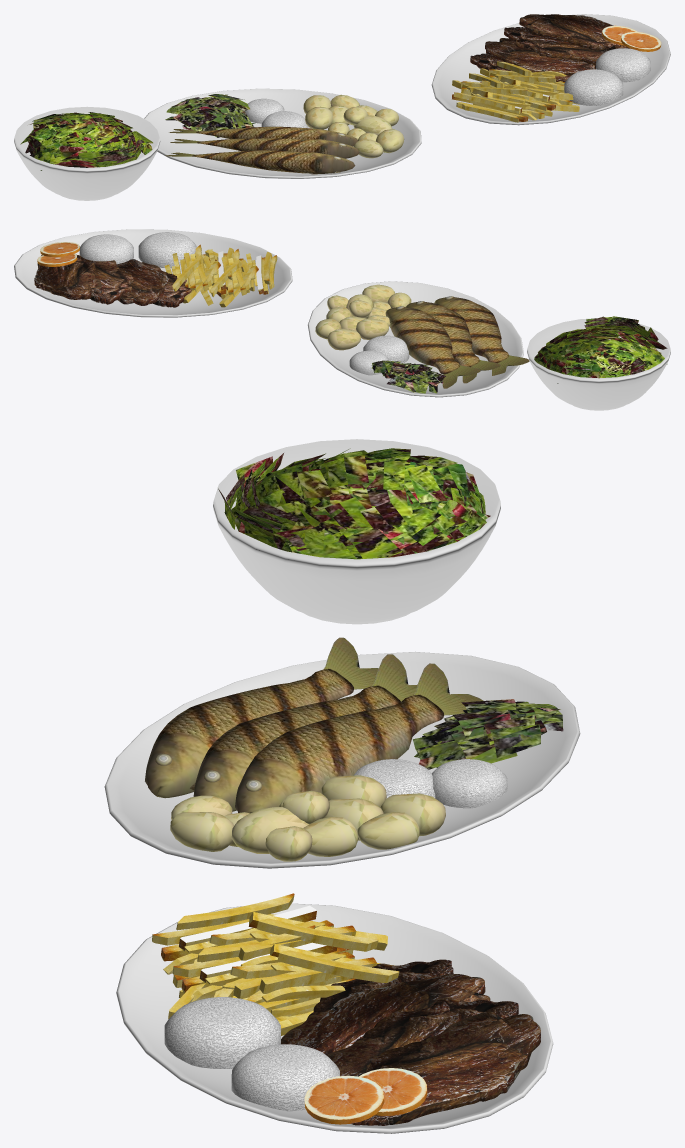
File: comida1.obj
3 renders of one model, top to bottom at view 1: azimuth 30°, elevation 25°; view 2: azimuth 150°, elevation 25°; view 3: azimuth 270°, elevation 25°, orthographic. The views are drawn at different scales.
Visible parts, largest first — view 1: Mesh66 Component_210_2 Component_12_1 Model, Mesh122 Component_210_3 Component_8_1 Model, Mesh57 Component_210_1 Component_21_1 Model, Mesh71 object2 skp23_2 Component_12_1 Model, Mesh61 bife4 Component_21_1 Model, Mesh67 object1 skp23_1 Component_12_1 Model, Mesh59 bife2 Component_21_1 Model, Mesh65 Component_21_1 Model, Mesh60 bife3 Component_21_1 Model, Mesh114 object3 skp23_3 Component_12_1 Model, Mesh64 Component_21_1 Model, Mesh121 Component_12_1 Model (+17 smaller); view 2: Mesh57 Component_210_1 Component_21_1 Model, Mesh66 Component_210_2 Component_12_1 Model, Mesh122 Component_210_3 Component_8_1 Model, Mesh114 object3 skp23_3 Component_12_1 Model, Mesh71 object2 skp23_2 Component_12_1 Model, Mesh61 bife4 Component_21_1 Model, Mesh67 object1 skp23_1 Component_12_1 Model, Mesh65 Component_21_1 Model, Mesh59 bife2 Component_21_1 Model, Mesh60 bife3 Component_21_1 Model, Mesh64 Component_21_1 Model, Mesh120 Component_12_1 Model (+17 smaller); view 3: Mesh66 Component_210_2 Component_12_1 Model, Mesh57 Component_210_1 Component_21_1 Model, Mesh122 Component_210_3 Component_8_1 Model, Mesh114 object3 skp23_3 Component_12_1 Model, Mesh61 bife4 Component_21_1 Model, Mesh71 object2 skp23_2 Component_12_1 Model, Mesh65 Component_21_1 Model, Mesh67 object1 skp23_1 Component_12_1 Model, Mesh59 bife2 Component_21_1 Model, Mesh64 Component_21_1 Model, Mesh60 bife3 Component_21_1 Model, Mesh63 Component_6_2 Component_21_1 Model (+28 smaller).
Part boxes in pixels (x1,y1,x2,y2): Mesh66 Component_210_2 Component_12_1 Model: (144, 88, 421, 178); Mesh122 Component_210_3 Component_8_1 Model: (14, 106, 160, 200); Mesh57 Component_210_1 Component_21_1 Model: (431, 14, 670, 125); Mesh71 object2 skp23_2 Component_12_1 Model: (192, 150, 355, 174); Mesh61 bife4 Component_21_1 Model: (519, 14, 629, 49); Mesh67 object1 skp23_1 Component_12_1 Model: (197, 138, 359, 158); Mesh59 bife2 Component_21_1 Model: (485, 38, 595, 75); Mesh65 Component_21_1 Model: (564, 69, 623, 105); Mesh60 bife3 Component_21_1 Model: (504, 27, 610, 64); Mesh114 object3 skp23_3 Component_12_1 Model: (196, 126, 358, 146); Mesh64 Component_21_1 Model: (596, 48, 650, 82); Mesh121 Component_12_1 Model: (244, 98, 284, 123); Mesh57 Component_210_1 Component_21_1 Model: (14, 229, 292, 317); Mesh66 Component_210_2 Component_12_1 Model: (307, 281, 523, 397); Mesh122 Component_210_3 Component_8_1 Model: (527, 318, 670, 410); Mesh114 object3 skp23_3 Component_12_1 Model: (385, 307, 459, 374); Mesh71 object2 skp23_2 Component_12_1 Model: (434, 297, 508, 363); Mesh61 bife4 Component_21_1 Model: (34, 254, 101, 299); Mesh67 object1 skp23_1 Component_12_1 Model: (406, 301, 479, 366); Mesh65 Component_21_1 Model: (138, 232, 196, 267); Mesh59 bife2 Component_21_1 Model: (116, 259, 169, 305); Mesh60 bife3 Component_21_1 Model: (81, 256, 133, 304); Mesh64 Component_21_1 Model: (79, 234, 133, 264); Mesh120 Component_12_1 Model: (363, 335, 409, 363); Mesh66 Component_210_2 Component_12_1 Model: (104, 651, 580, 868); Mesh57 Component_210_1 Component_21_1 Model: (116, 903, 553, 1133); Mesh122 Component_210_3 Component_8_1 Model: (213, 439, 500, 624); Mesh114 object3 skp23_3 Component_12_1 Model: (235, 694, 443, 813); Mesh61 bife4 Component_21_1 Model: (351, 1011, 540, 1125); Mesh71 object2 skp23_2 Component_12_1 Model: (145, 668, 353, 798); Mesh65 Component_21_1 Model: (164, 997, 280, 1068); Mesh67 object1 skp23_1 Component_12_1 Model: (193, 685, 400, 811); Mesh59 bife2 Component_21_1 Model: (293, 974, 490, 1055); Mesh64 Component_21_1 Model: (231, 1044, 339, 1111); Mesh60 bife3 Component_21_1 Model: (327, 997, 518, 1076); Mesh63 Component_6_2 Component_21_1 Model: (304, 1075, 384, 1124).
Size of the model in its own units: 0.9314 by 0.0971 by 0.3042.
Materials: 12 (10 with a texture image).
